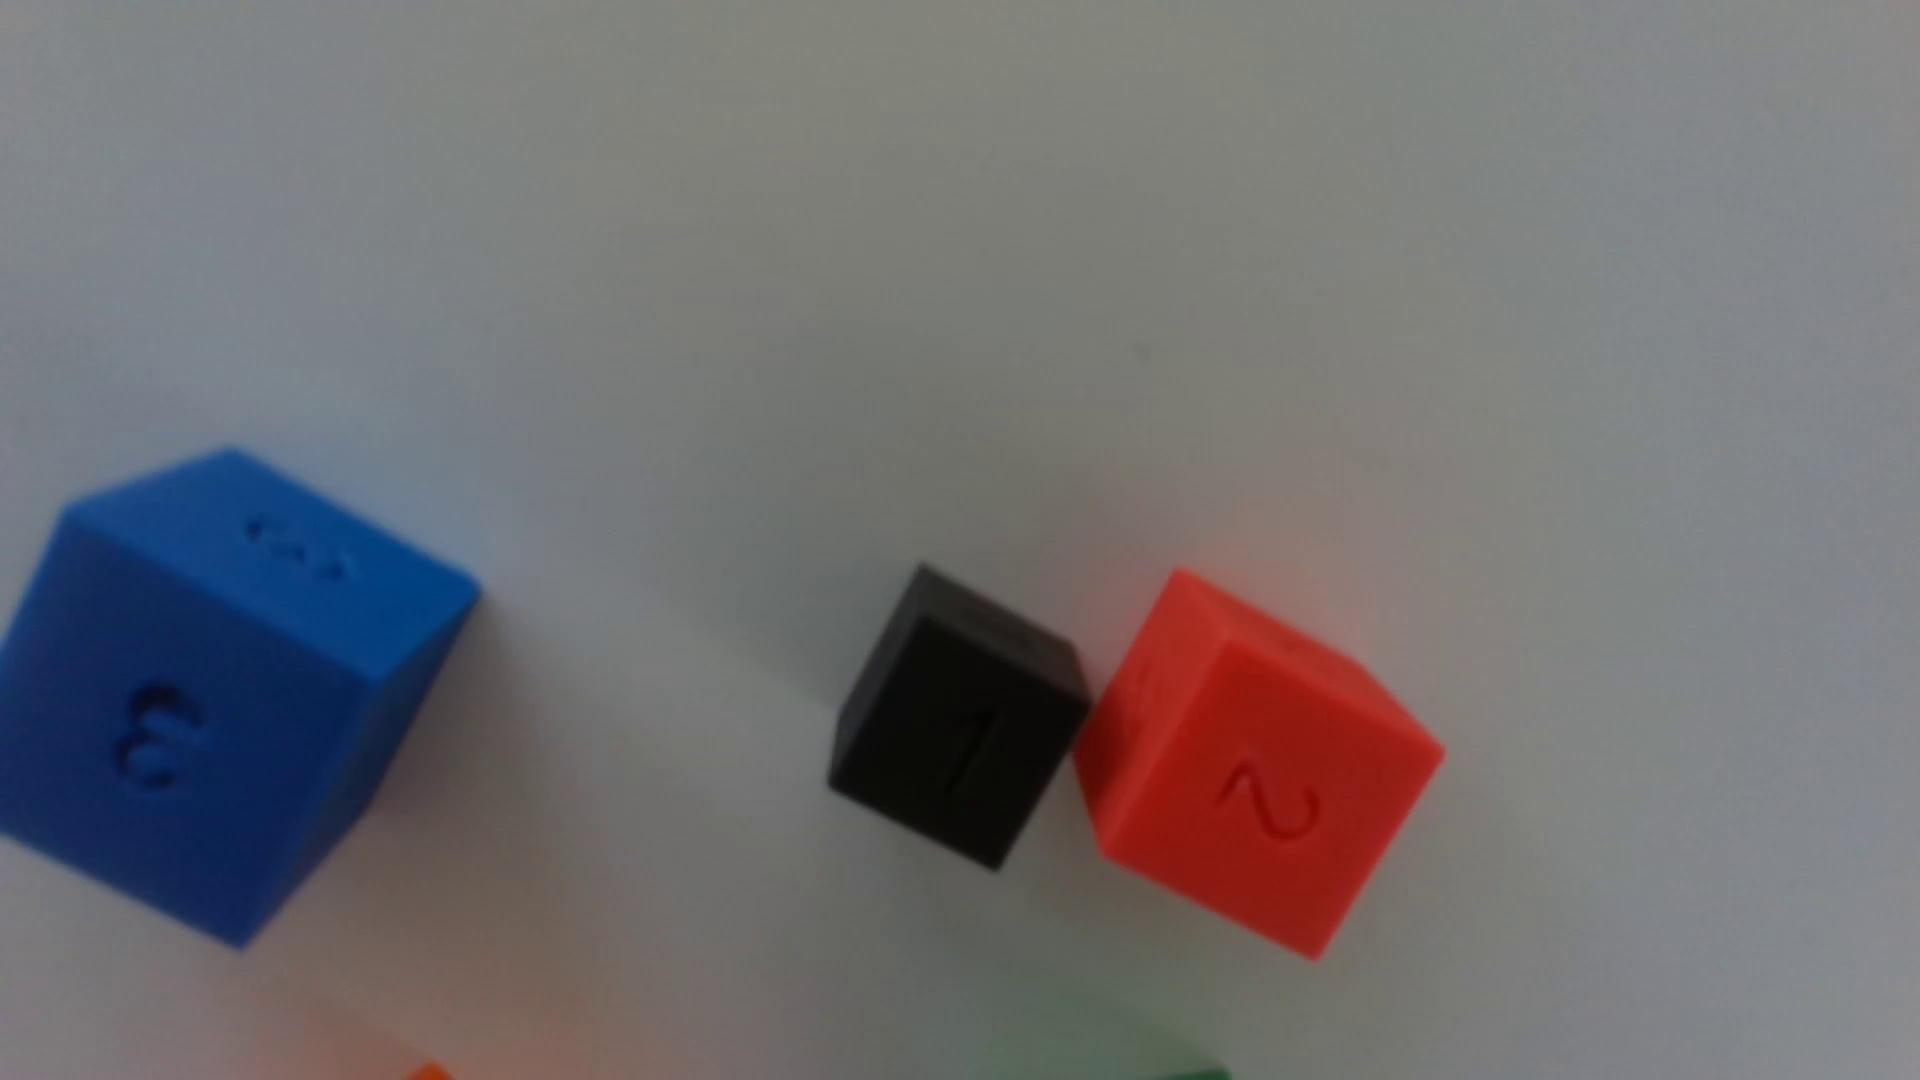black: (825, 567, 1089, 870)
blue: (0, 451, 480, 948)
green: (1164, 1068, 1232, 1080)
orange: (405, 1062, 454, 1080)
red: (1073, 570, 1443, 961)
